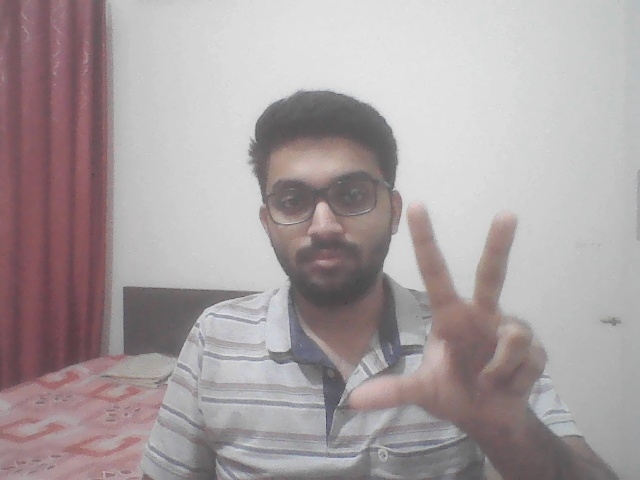no: (346, 179, 558, 448)
